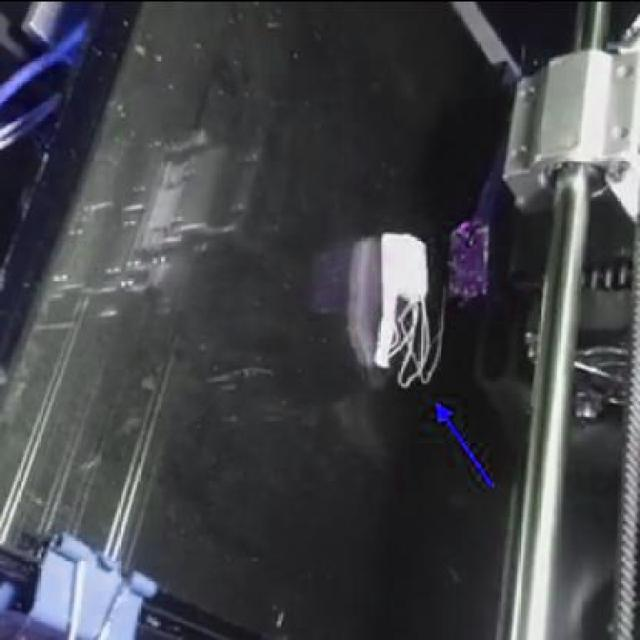Spaghetti: (389, 291, 448, 386)
